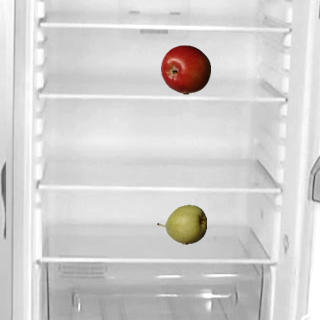Apple Braeburn: (160, 44, 210, 94)
Pear: (156, 199, 206, 249)
